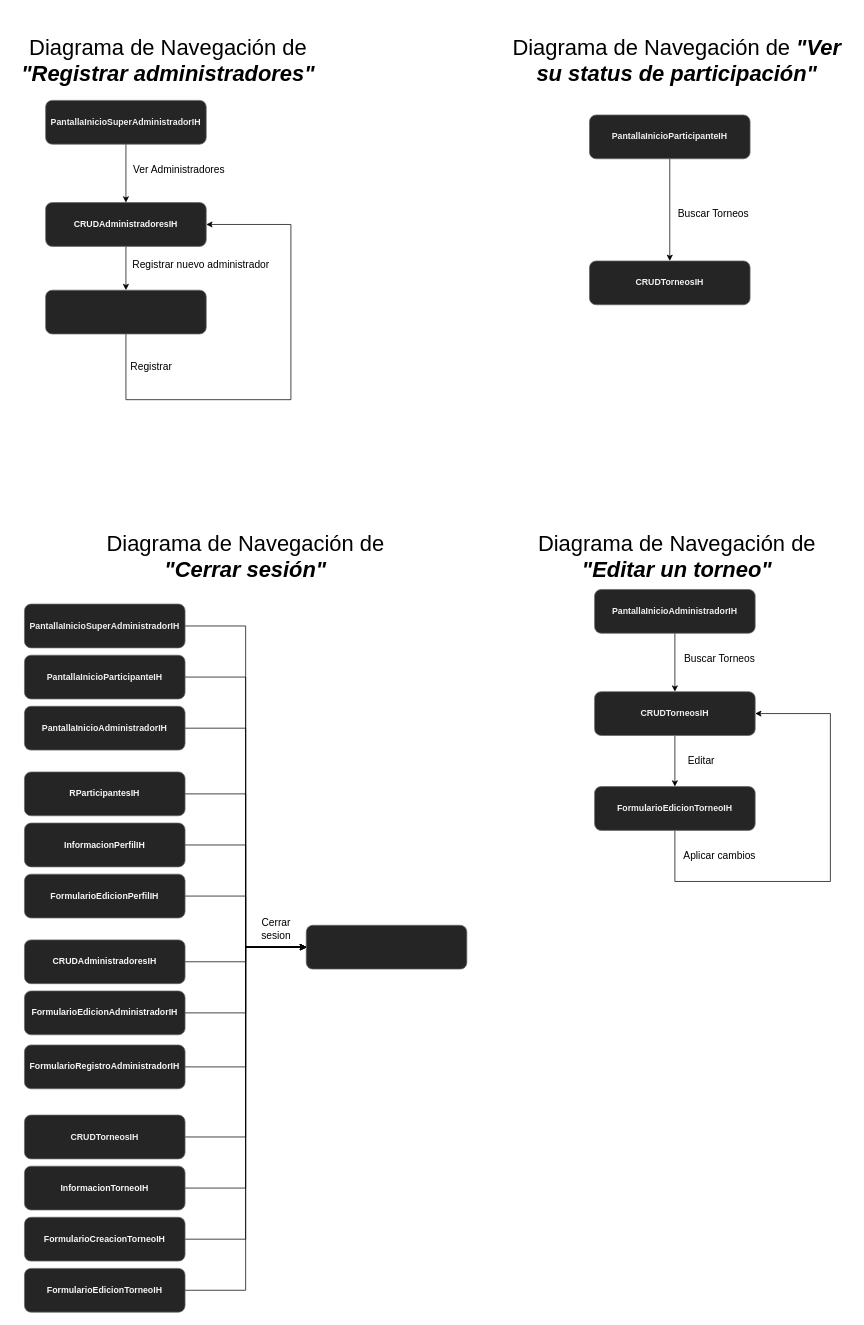
Image size: 864x1325. Some labels were removed from this diagram. The shapes that lost their labels are listed below. From the top down, each one's centre as x and y in pixels, then its label:
[125,311]: RegistroAdministradorIH
[386,947]: PantallaInicioSesion
